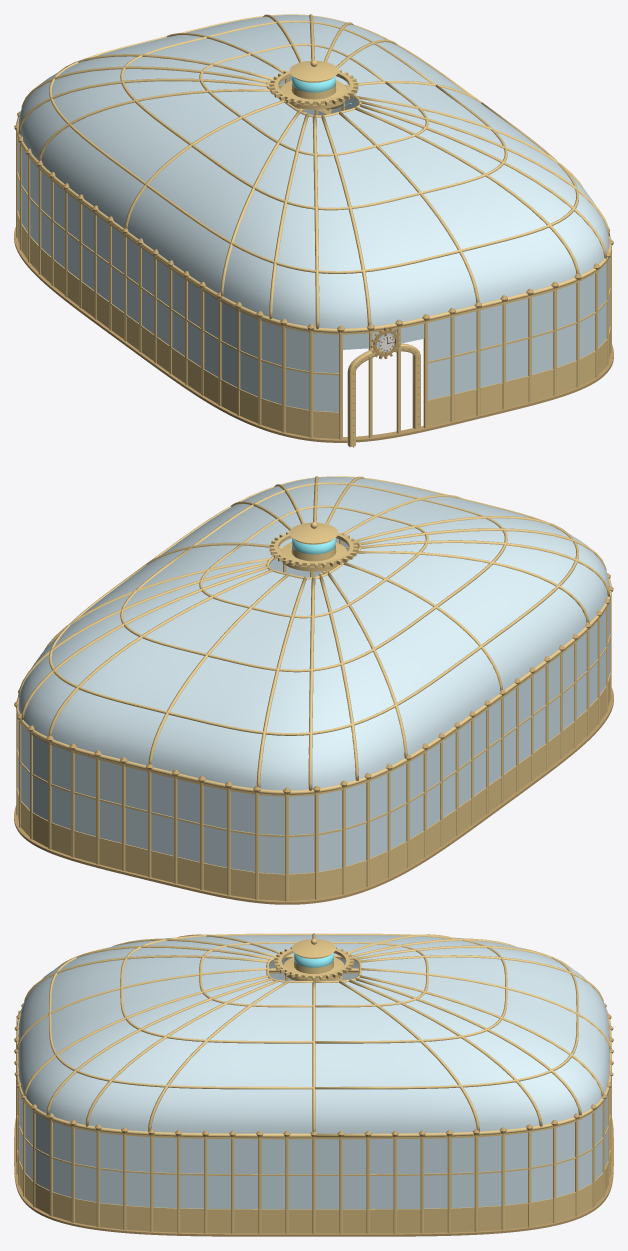
The model's file is TimeMachineLabCage.fbx.
3 views of the same model, one above another, from view 1: azimuth 30°, elevation 25°; view 2: azimuth 150°, elevation 25°; view 3: azimuth 270°, elevation 25° (orthographic). The views are drawn at different scales.
Visible parts, largest first — view 1: ChronoDome, ChronoGlass, ChronoDomeRibs, ChronoBrassFrame, ChronoBrassPlate, ChronoBrassDark, ChronoBrass, ChronoCrownGear; view 2: ChronoDome, ChronoGlass, ChronoDomeRibs, ChronoBrassFrame, ChronoBrassPlate, ChronoBrassDark, ChronoBrass, ChronoCrownGear; view 3: ChronoDome, ChronoGlass, ChronoDomeRibs, ChronoBrassFrame, ChronoBrassPlate, ChronoBrassDark, ChronoBrass, ChronoCrownGear.
Part boxes in pixels (x1=…): ChronoDome: x1=18, y1=15, x2=609, y2=328; ChronoGlass: x1=18, y1=76, x2=609, y2=412; ChronoDomeRibs: x1=16, y1=14, x2=611, y2=332; ChronoBrassFrame: x1=16, y1=77, x2=611, y2=439; ChronoBrassPlate: x1=17, y1=215, x2=610, y2=438; ChronoBrassDark: x1=14, y1=111, x2=613, y2=442; ChronoBrass: x1=280, y1=60, x2=420, y2=447; ChronoCrownGear: x1=269, y1=69, x2=358, y2=106; ChronoDome: x1=18, y1=477, x2=609, y2=790; ChronoGlass: x1=18, y1=538, x2=609, y2=873; ChronoDomeRibs: x1=16, y1=476, x2=611, y2=794; ChronoBrassFrame: x1=16, y1=539, x2=611, y2=901; ChronoBrassPlate: x1=17, y1=677, x2=610, y2=900; ChronoBrassDark: x1=14, y1=573, x2=613, y2=904; ChronoBrass: x1=280, y1=522, x2=347, y2=571; ChronoCrownGear: x1=269, y1=531, x2=358, y2=568; ChronoDome: x1=18, y1=935, x2=609, y2=1133; ChronoGlass: x1=18, y1=973, x2=609, y2=1209; ChronoDomeRibs: x1=16, y1=933, x2=611, y2=1137; ChronoBrassFrame: x1=16, y1=972, x2=611, y2=1233; ChronoBrassPlate: x1=17, y1=1156, x2=610, y2=1233; ChronoBrassDark: x1=14, y1=1003, x2=613, y2=1236; ChronoBrass: x1=283, y1=938, x2=344, y2=980; ChronoCrownGear: x1=273, y1=946, x2=354, y2=980.
Bounding box in the file's own units: 943 × 595 × 1418.
